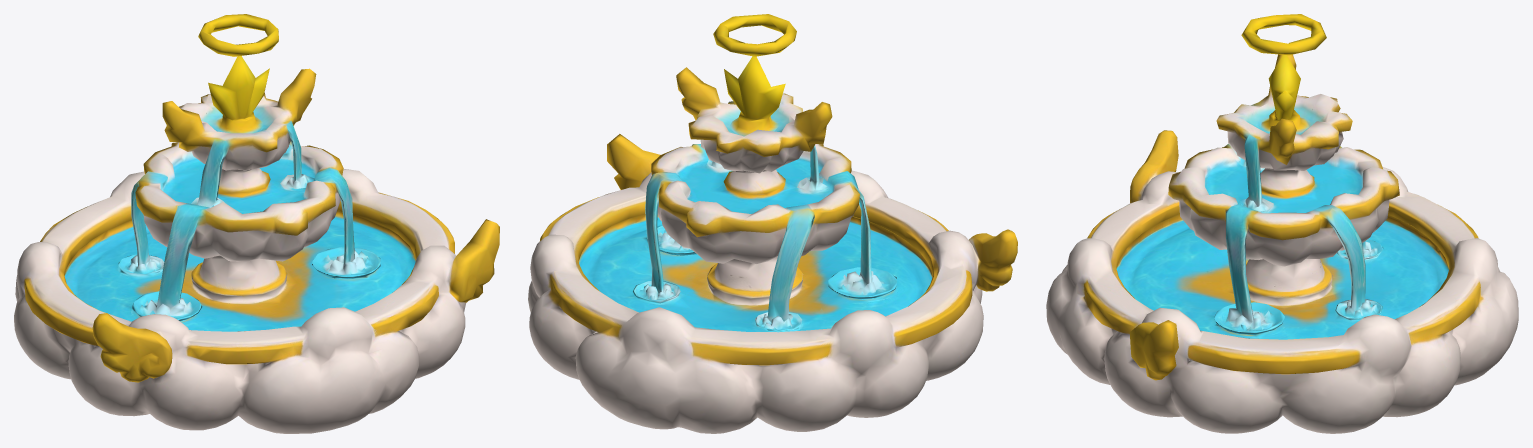
Rendered from Town_Halo_Fountain_HD_retry1.glb.
3 views of the same model, side by side, from view 1: azimuth 30°, elevation 25°; view 2: azimuth 150°, elevation 25°; view 3: azimuth 270°, elevation 25° (orthographic).
Visible parts, largest first — view 1: tripo_node_31f8c9d2-f7d8-4db8-9bab-4d26cbc26b53; view 2: tripo_node_31f8c9d2-f7d8-4db8-9bab-4d26cbc26b53; view 3: tripo_node_31f8c9d2-f7d8-4db8-9bab-4d26cbc26b53.
Part boxes in pixels (x1,y1,x2,y2): tripo_node_31f8c9d2-f7d8-4db8-9bab-4d26cbc26b53: (14, 14, 499, 433); tripo_node_31f8c9d2-f7d8-4db8-9bab-4d26cbc26b53: (528, 14, 1017, 433); tripo_node_31f8c9d2-f7d8-4db8-9bab-4d26cbc26b53: (1046, 14, 1518, 433).
Size of the model in its own units: 0.983 by 0.763 by 0.9778.
1 material, 1 textured.
